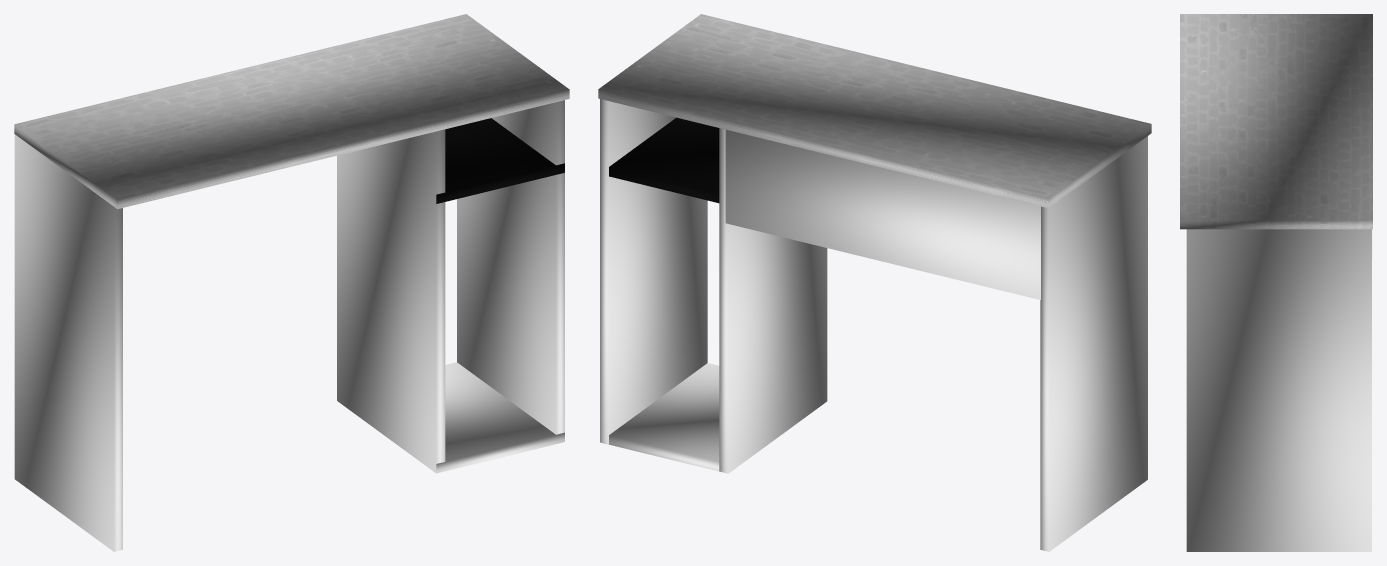
Rendered from Wooden Study Table.gltf.
3 views of the same model, side by side, from view 1: azimuth 30°, elevation 25°; view 2: azimuth 150°, elevation 25°; view 3: azimuth 270°, elevation 25° (orthographic). The views are drawn at different scales.
Parts seen in each view (by area): view 1: Node1, Node3, Node5, Node2, Node4, Node7; view 2: Node1, Node3, Node6, Node2, Node5, Node4, Node7; view 3: Node2, Node1.
Part boxes in pixels (<box>): Node1: <box>14,14,569,209</box>; Node3: <box>14,134,122,551</box>; Node5: <box>337,129,445,472</box>; Node2: <box>457,100,564,434</box>; Node4: <box>387,362,564,473</box>; Node7: <box>436,118,564,203</box>; Node1: <box>598,14,1151,208</box>; Node3: <box>1040,136,1147,551</box>; Node6: <box>725,130,1040,299</box>; Node2: <box>600,99,707,444</box>; Node5: <box>719,128,827,473</box>; Node4: <box>604,363,818,473</box>; Node7: <box>609,117,719,203</box>; Node2: <box>1186,229,1371,551</box>; Node1: <box>1180,14,1372,229</box>.
Bounding box in the file's own units: 1 × 0.7498 × 0.395.
7 materials, 1 textured.
